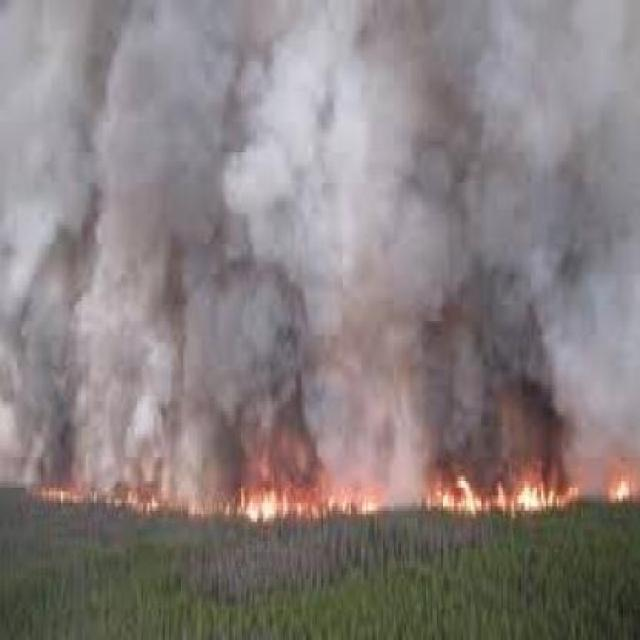Fire: (25, 418, 640, 541)
Smoke: (7, 0, 640, 436)
